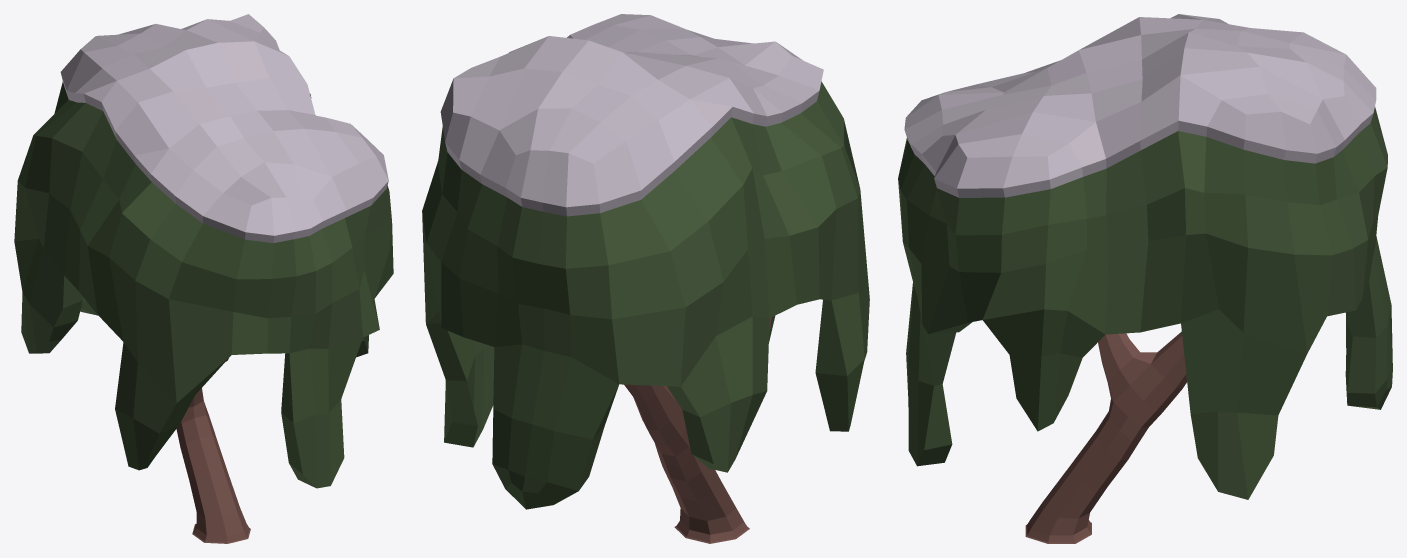
File: willow_snow_4.glb
3 views of the same model, side by side, from view 1: azimuth 30°, elevation 25°; view 2: azimuth 150°, elevation 25°; view 3: azimuth 270°, elevation 25° (orthographic). The views are drawn at different scales.
Visible parts, largest first — view 1: Willow_Snow_4; view 2: Willow_Snow_4; view 3: Willow_Snow_4.
Boxes of the visible parts, x1,y1,x2,y2 form: Willow_Snow_4: [14, 14, 393, 543]; Willow_Snow_4: [422, 14, 869, 543]; Willow_Snow_4: [898, 14, 1392, 543].
Size of the model in its own units: 2.19 by 3.46 by 3.04.
